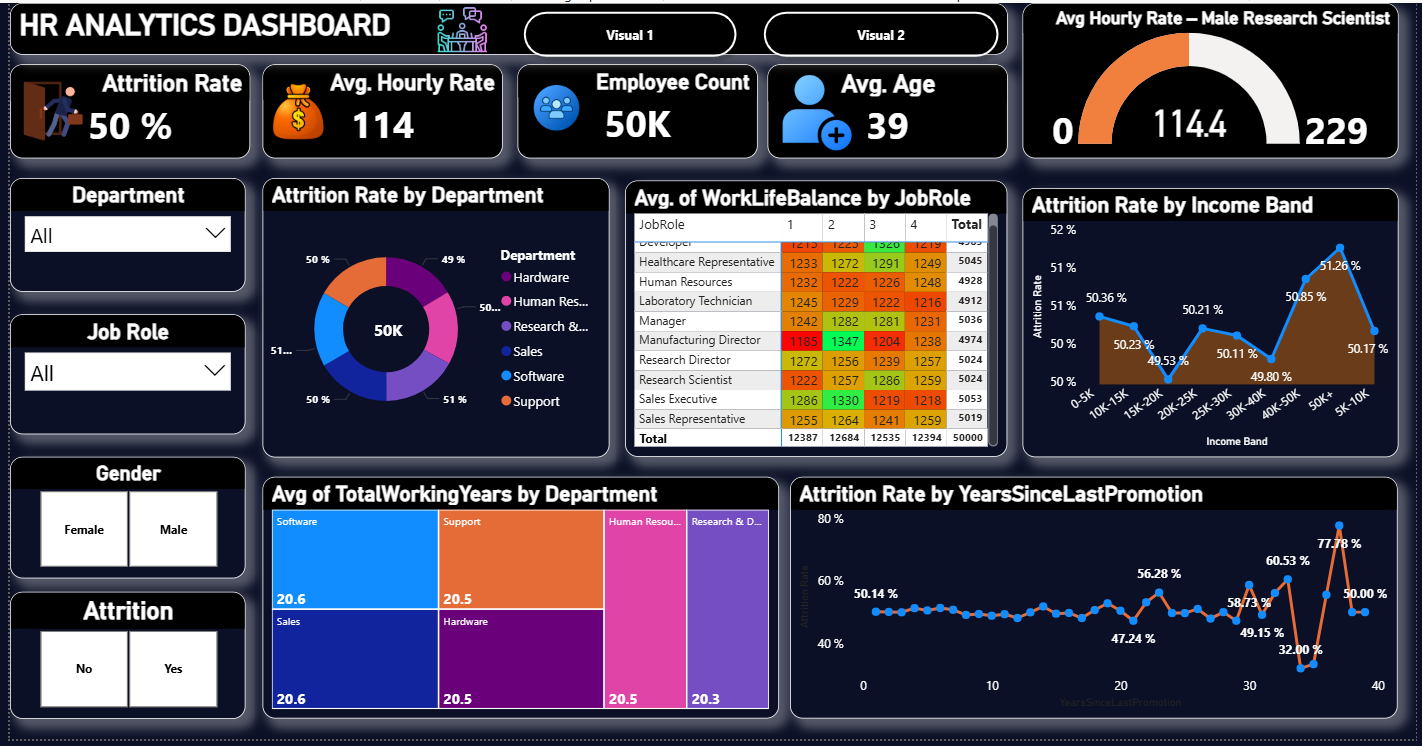

What the dashboard file says about the page in this screenshot:
{"tool":"powerbi","page":{"name":"HR_Analytics_Dashboard","canvas":[1433,750],"ordinal":0},"visuals":[{"type":"card","title":"Attrition Rate","fields":{"Values":["Employees Data.Attrition Rate"]},"box":[0,62.9,245.2,96.1],"z":0},{"type":"card","title":"Avg. Hourly Rate","fields":{"Values":["Employees Data.Avg Hourly Rate Male Research Scientist"]},"box":[256.8,62.9,245.2,96.1],"z":6000},{"type":"card","title":"Employee Count","fields":{"Values":["CountNonNull(Employees Data.EmployeeNumber)"]},"box":[516.8,62.9,245.2,96.1],"z":7000},{"type":"card","title":"Avg. Age","fields":{"Values":["Avg(Employees Data.Age)"]},"box":[771.9,62.9,245.2,96.1],"z":8000},{"type":"textbox","title":"HR ANALYTICS DASHBOARD","box":[0,0,1017.1,53],"z":9000},{"type":"slicer","title":"Department","fields":{"Values":["Employees Data.Department"]},"box":[0,177.7,239.8,115.6],"z":10000},{"type":"slicer","title":"Gender","fields":{"Values":["Employees Data.Gender"]},"box":[0,462.4,239.8,124.2],"z":11000},{"type":"slicer","title":"Job Role","fields":{"Values":["Employees Data.JobRole"]},"box":[0,317.5,239.8,122.5],"z":13000},{"type":"slicer","title":"Attrition","fields":{"Values":["Employees Data.Attrition"]},"box":[0,600.5,239.8,129.4],"z":14000},{"type":"actionButton","title":"Chart 1","box":[514.2,0,234.7,63.8],"z":15000},{"type":"actionButton","title":"Chart 2","box":[759.2,0,257.1,63.8],"z":16000},{"type":"pivotTable","title":"Avg. of WorkLifeBalance by JobRole","fields":{"Rows":["Employees Data.JobRole"],"Columns":["Employees Data.WorkLifeBalance"],"Values":["Sum(Employees Data.EmployeeCount)"]},"box":[626.4,181.2,390,281.3],"z":17000},{"type":"areaChart","fields":{"Category":["Employees Data.Income Band"],"Y":["Employees Data.Attrition Rate"]},"box":[1031.8,188.1,383.1,274.4],"z":18000},{"type":"donutChart","fields":{"Category":["Employees Data.Department"],"Y":["Employees Data.Attrition Rate"]},"box":[257.1,177.7,353.7,284.7],"z":19000},{"type":"treemap","title":"Avg of TotalWorkingYears by Department","fields":{"Group":["Employees Data.Department"],"Values":["Avg(Employees Data.TotalWorkingYears)"]},"box":[257.1,483.1,526.3,246.7],"z":20000},{"type":"gauge","title":"Avg Hourly Rate – Male Research Scientist","fields":{"Y":["Employees Data.Avg Hourly Rate Male Research Scientist"]},"box":[1031.8,0,383.1,158.7],"z":21000},{"type":"card","fields":{"Values":["Employees Data.Total Employees"]},"box":[355.5,310.6,60.4,50],"z":22000},{"type":"image","box":[407.2,0,107,53.5],"z":23000},{"type":"image","box":[533.2,55.2,46.6,103.5],"z":24000},{"type":"image","box":[13.8,70.7,60.4,77.6],"z":25000},{"type":"image","box":[245,81.1,98.4,58.7],"z":26000},{"type":"image","box":[781.7,70.7,81.1,81.1],"z":27000},{"type":"lineChart","fields":{"Category":["Employees Data.YearsSinceLastPromotion"],"Y":["Employees Data.Attrition Rate"]},"box":[795.5,483.1,619.5,246.7],"z":28000}]}

Visuals, with their boxes in screenshot pixels (x1, y1, x2, y2), scaled from the page's 1433x750 canvas onto the 1422x746 screenshot:
"Attrition Rate" card: box(0, 63, 243, 158)
"Avg. Hourly Rate" card: box(255, 63, 498, 158)
"Employee Count" card: box(513, 63, 756, 158)
"Avg. Age" card: box(766, 63, 1009, 158)
"HR ANALYTICS DASHBOARD" textbox: box(0, 0, 1009, 53)
"Department" slicer: box(0, 177, 238, 292)
"Gender" slicer: box(0, 460, 238, 583)
"Job Role" slicer: box(0, 316, 238, 438)
"Attrition" slicer: box(0, 597, 238, 726)
"Chart 1" actionButton: box(510, 0, 743, 63)
"Chart 2" actionButton: box(753, 0, 1008, 63)
"Avg. of WorkLifeBalance by JobRole" pivotTable: box(622, 180, 1009, 460)
areaChart - Employees Data.Income Band x Employees Data.Attrition Rate: box(1024, 187, 1404, 460)
donutChart - Employees Data.Department x Employees Data.Attrition Rate: box(255, 177, 606, 460)
"Avg of TotalWorkingYears by Department" treemap: box(255, 481, 777, 726)
"Avg Hourly Rate – Male Research Scientist" gauge: box(1024, 0, 1404, 158)
card - Employees Data.Total Employees: box(353, 309, 413, 359)
image: box(404, 0, 510, 53)
image: box(529, 55, 575, 158)
image: box(14, 70, 74, 148)
image: box(243, 81, 341, 139)
image: box(776, 70, 856, 151)
lineChart - Employees Data.YearsSinceLastPromotion x Employees Data.Attrition Rate: box(789, 481, 1404, 726)
